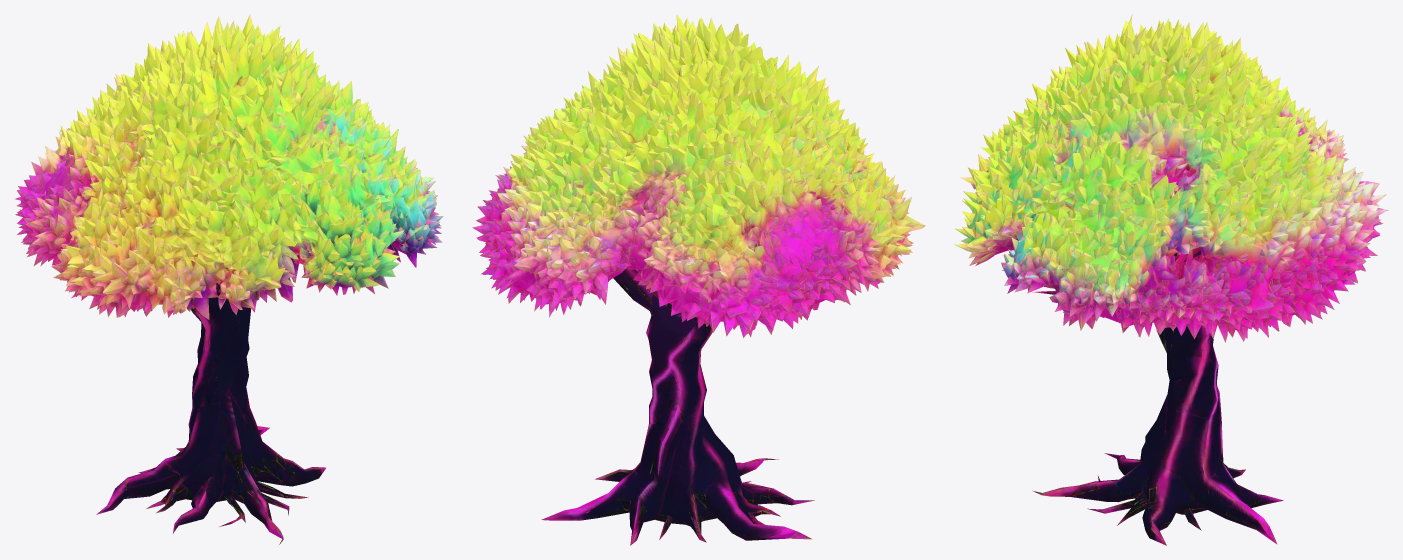
File: prop_tree.glb
3 renders of one model, left to right at view 1: azimuth 30°, elevation 25°; view 2: azimuth 150°, elevation 25°; view 3: azimuth 270°, elevation 25°, orthographic.
Parts seen in each view (by area): view 1: Mesh_0; view 2: Mesh_0; view 3: Mesh_0.
Boxes of the visible parts, x1,y1,x2,y2 form: Mesh_0: (15, 14, 443, 544); Mesh_0: (472, 14, 925, 545); Mesh_0: (954, 14, 1388, 545).
Bounding box in the file's own units: 1.59 × 1.89 × 1.57.
1 material, 1 textured.
